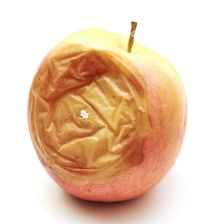apple: (30, 46, 171, 205)
